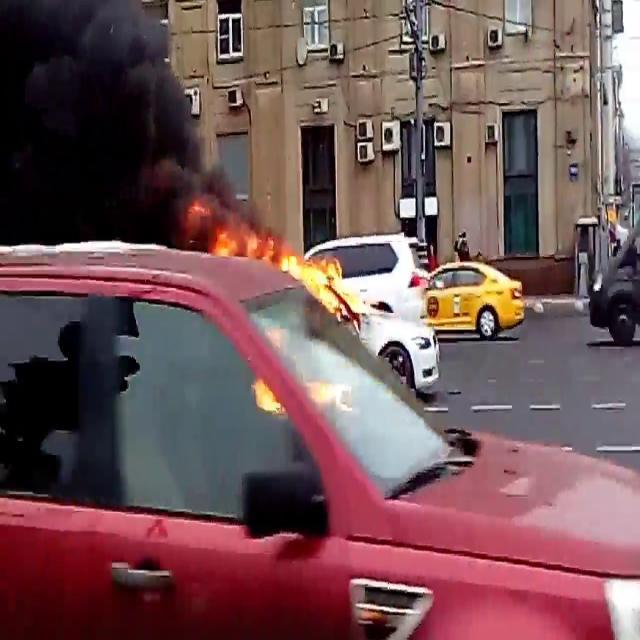Fire: (275, 236, 351, 313), (208, 214, 280, 266)
Smoke: (0, 1, 234, 218)
